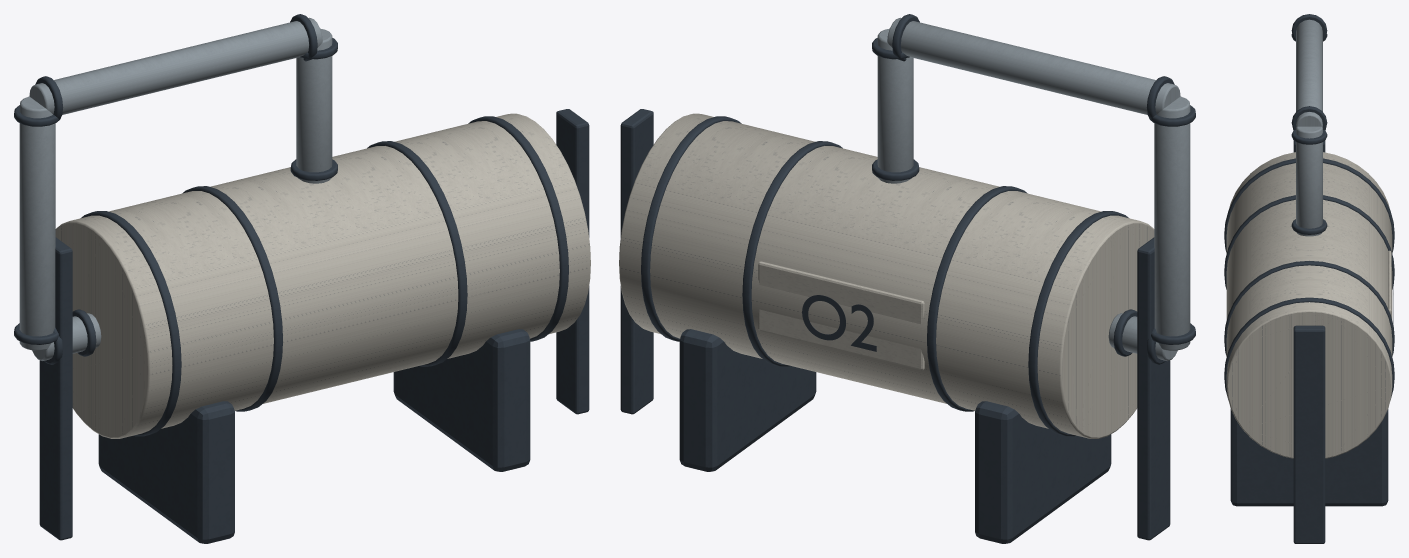
Rendered from oxygen-reservoir.glb.
3 views of the same model, side by side, from view 1: azimuth 30°, elevation 25°; view 2: azimuth 150°, elevation 25°; view 3: azimuth 270°, elevation 25° (orthographic). The views are drawn at different scales.
Parts seen in each view (by area): view 1: Assembly_Lunar_ceramic, Assembly_Graphite_frame, Assembly_Machined_alloy; view 2: Assembly_Lunar_ceramic, Assembly_Graphite_frame, Assembly_Machined_alloy; view 3: Assembly_Lunar_ceramic, Assembly_Graphite_frame, Assembly_Machined_alloy.
Boxes of the visible parts, x1,y1,x2,y2 form: Assembly_Lunar_ceramic: (55, 113, 590, 438); Assembly_Graphite_frame: (14, 14, 589, 543); Assembly_Machined_alloy: (19, 17, 332, 360); Assembly_Lunar_ceramic: (619, 113, 1154, 438); Assembly_Graphite_frame: (620, 14, 1195, 543); Assembly_Machined_alloy: (877, 17, 1190, 360); Assembly_Lunar_ceramic: (1226, 152, 1392, 458); Assembly_Graphite_frame: (1224, 14, 1394, 543); Assembly_Machined_alloy: (1296, 19, 1322, 236).
Bounding box in the file's own units: 6.1 × 4.72 × 2.16.
Materials: 3 (3 with a texture image).
